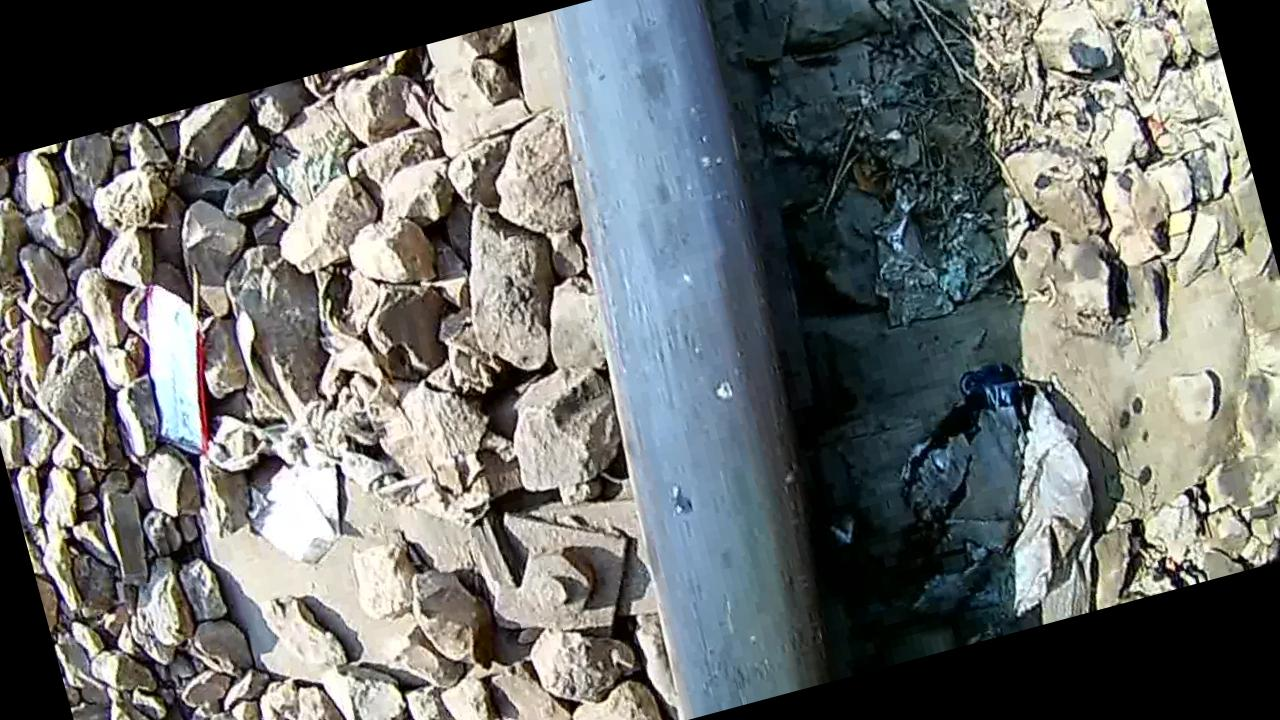bolt_missing: (563, 0, 784, 422)
